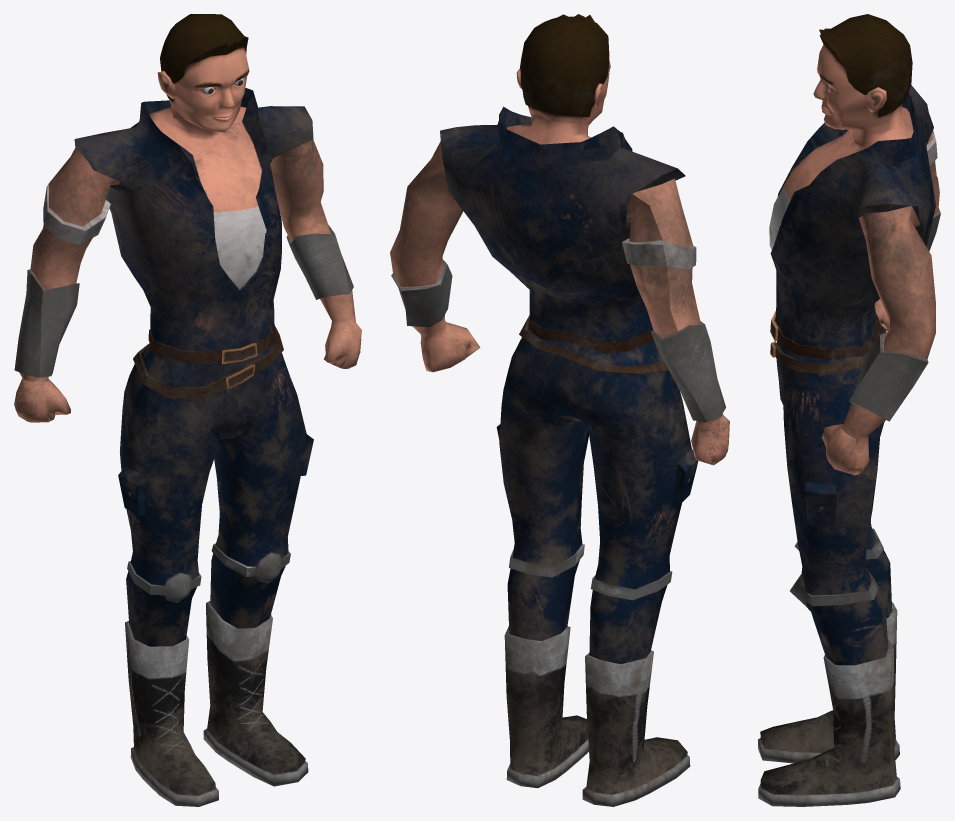
The model's file is Anim_recibirdanyo_jugador.0011.obj.
3 renders of one model, left to right at view 1: azimuth 30°, elevation 25°; view 2: azimuth 150°, elevation 25°; view 3: azimuth 270°, elevation 25°, orthographic. The views are drawn at different scales.
Parts seen in each view (by area): view 1: polySurface1; view 2: polySurface1; view 3: polySurface1.
Boxes of the visible parts, left/top/right/bottom form: polySurface1: left=14, top=14, right=361, bottom=806; polySurface1: left=390, top=14, right=729, bottom=806; polySurface1: left=758, top=14, right=940, bottom=806.
Bounding box in the file's own units: 4.37 × 9.58 × 2.09.
